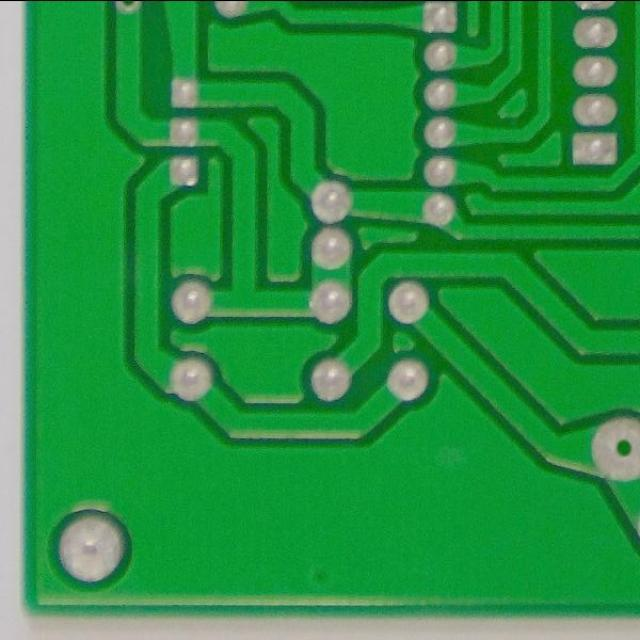Missing_Hole: (579, 412, 640, 486), (114, 0, 142, 14)
